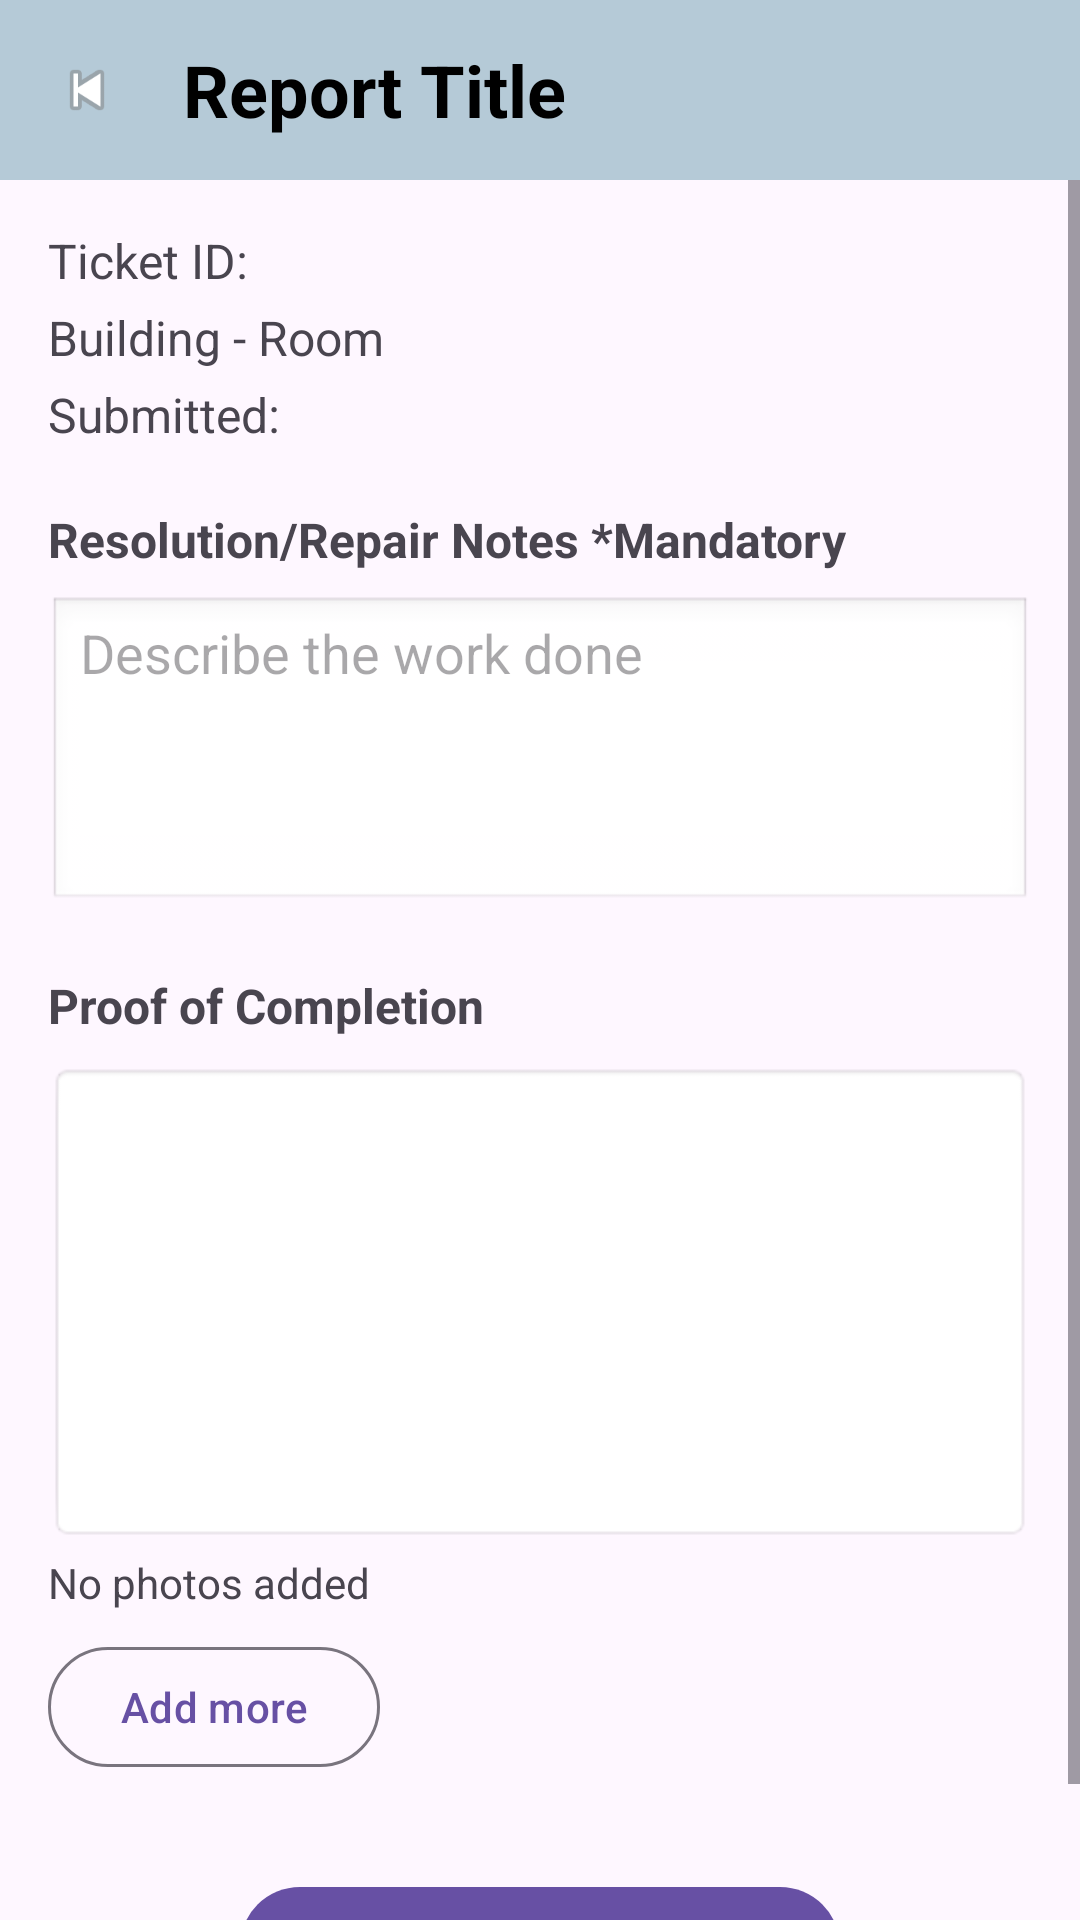

Icons on this 1080*1920 Android screen, each with the point to tap as (x,y):
Back: (87,90)
